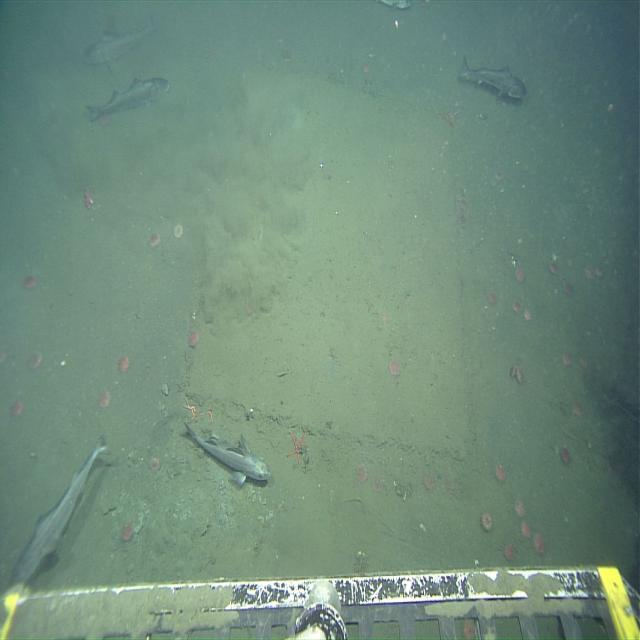Brittle Star: (284, 425, 309, 468)
Not Brittle Star: (9, 434, 108, 586), (182, 420, 273, 491), (85, 74, 172, 127), (83, 20, 155, 68), (458, 57, 528, 102), (284, 425, 310, 467), (78, 180, 98, 216), (24, 346, 46, 376), (8, 396, 28, 424), (95, 385, 114, 414), (19, 270, 39, 295), (115, 351, 133, 377), (119, 519, 135, 545), (369, 472, 386, 496), (146, 228, 163, 252), (354, 460, 369, 486), (493, 460, 508, 485), (479, 510, 495, 533), (171, 219, 186, 243), (387, 356, 402, 379), (186, 327, 201, 350), (502, 540, 517, 563), (422, 470, 436, 494), (559, 445, 573, 467), (147, 454, 162, 474), (533, 532, 546, 555), (562, 279, 576, 299), (571, 400, 585, 420), (515, 366, 527, 388), (514, 264, 527, 284), (560, 349, 573, 369), (514, 498, 526, 519), (486, 289, 499, 308), (520, 520, 532, 539), (511, 297, 522, 316), (360, 61, 372, 78), (522, 306, 533, 324)
